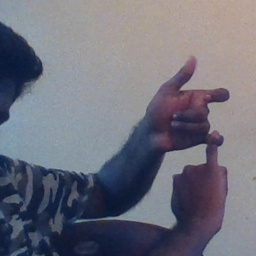S: (156, 47, 244, 225)
